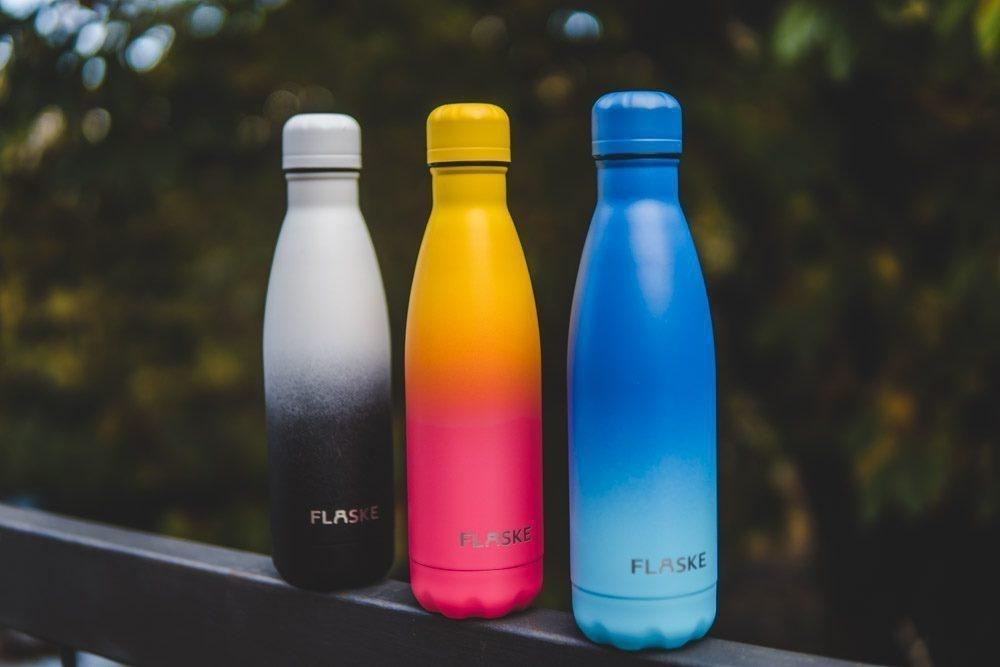gym bottle: (555, 84, 728, 653), (394, 97, 551, 624), (256, 112, 401, 593)
